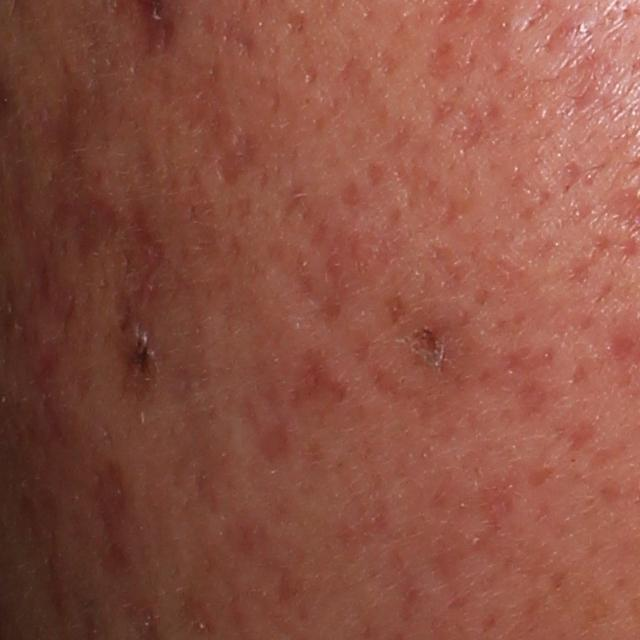atrophic_scar: (87, 453, 141, 583), (284, 339, 352, 415), (202, 16, 261, 67), (212, 124, 260, 186), (443, 104, 487, 157)
